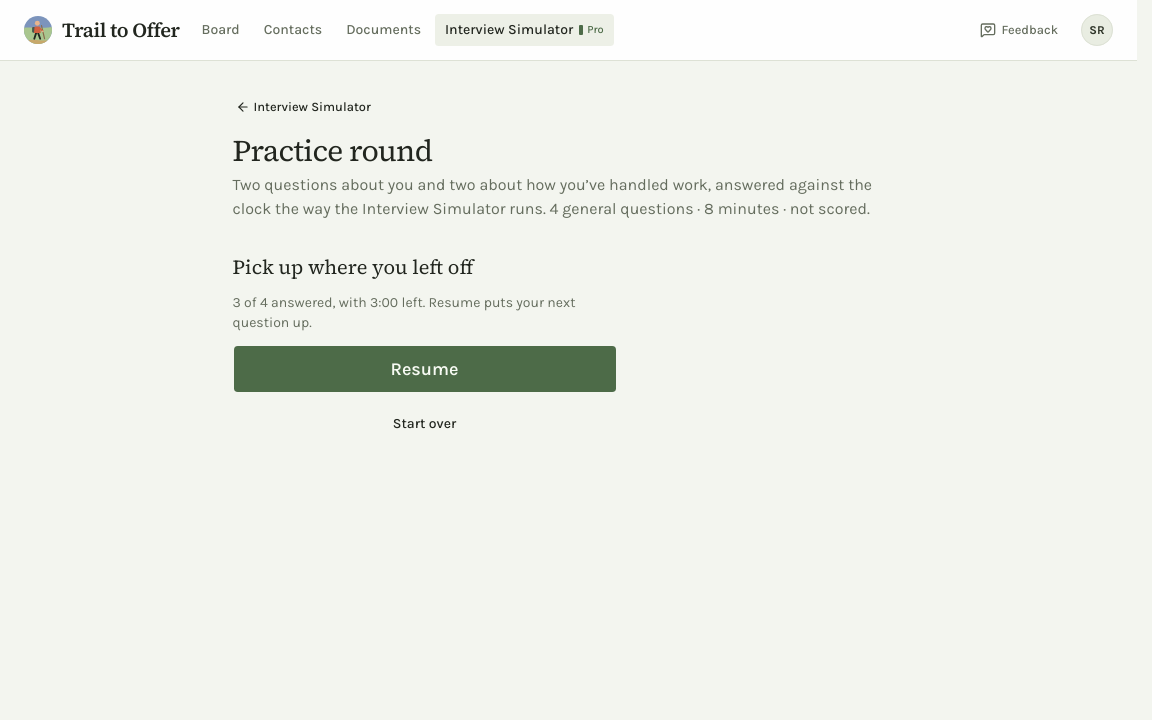
Test case: the end of a Practice round (practice round ticket 04) › PR-U10: answering the last question ends the round, and every answer is read back in order
Step 1. Click the button "Resume" → click(424, 369), box x1=232 y1=345 x2=616 y2=393
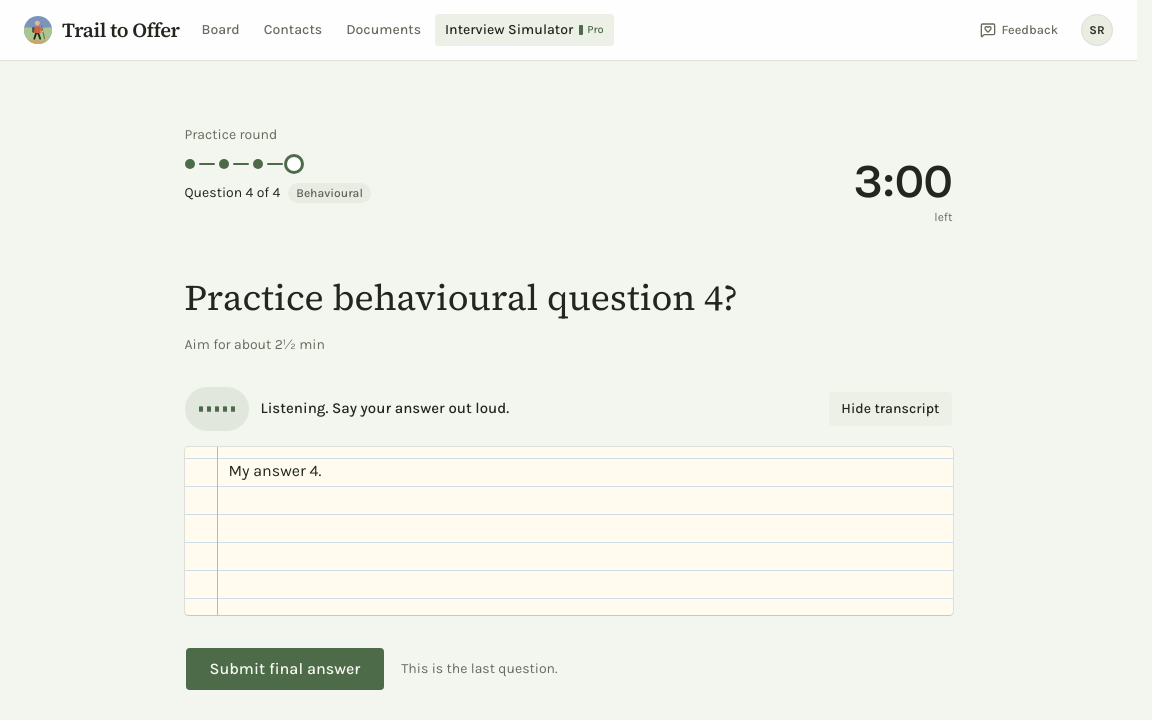
Step 2. Click the button "Submit final answer" → click(285, 668), box x1=184 y1=646 x2=385 y2=690
(page scrolled)
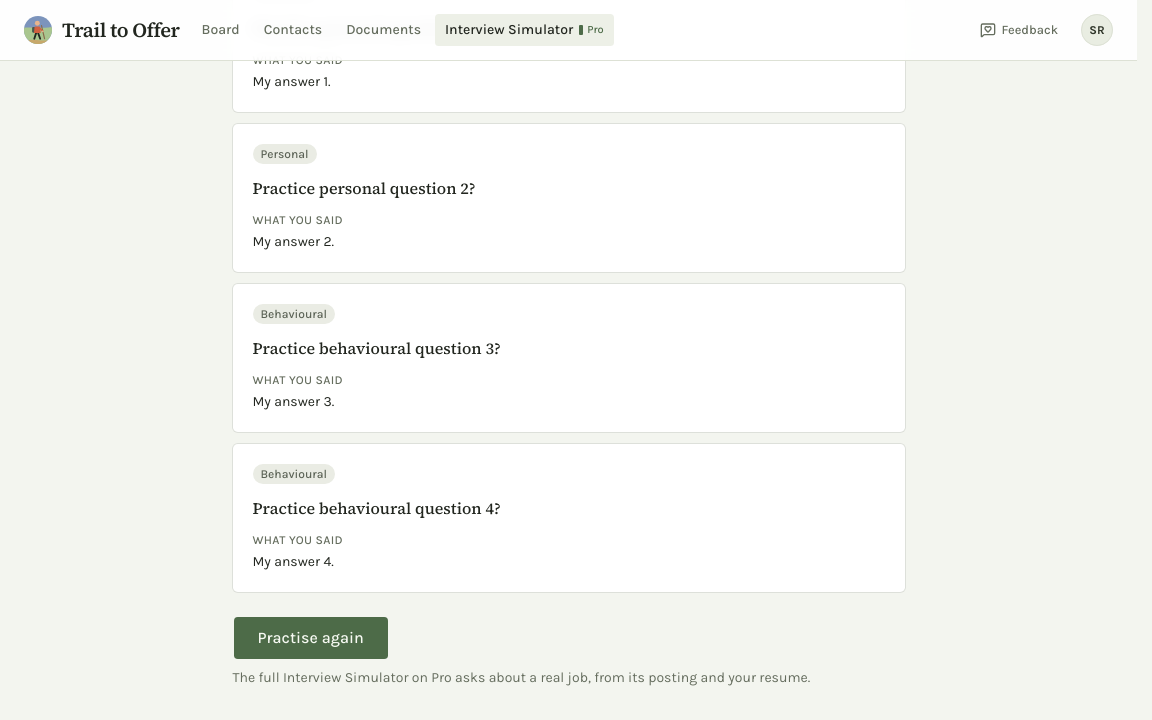
Expected: the heading "Practice personal question 2?" is shown, x1=252 y1=177 x2=476 y2=199
Expected: the text "My answer 3." is shown, x1=252 y1=393 x2=334 y2=410
Expected: the text "My answer 4." is shown, x1=252 y1=553 x2=334 y2=570
